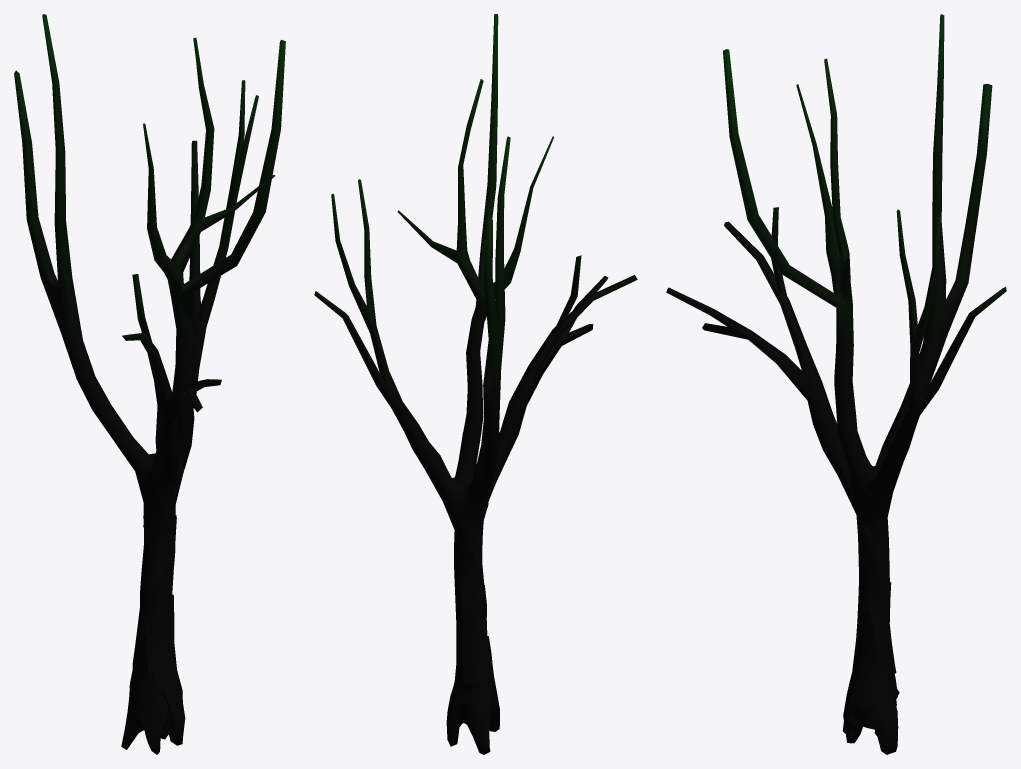
Rendered from TGV_Beech_Tree_Dry_02A.fbx.
The picture shows the model from 3 angles, left to right: view 1: azimuth 30°, elevation 25°; view 2: azimuth 150°, elevation 25°; view 3: azimuth 270°, elevation 25°; orthographic projection. The views are drawn at different scales.
Visible parts, largest first — view 1: TGV_Beech_Tree_Dry_02A_LOD0; view 2: TGV_Beech_Tree_Dry_02A_LOD0; view 3: TGV_Beech_Tree_Dry_02A_LOD0.
Part boxes in pixels (left/top/right/bottom): TGV_Beech_Tree_Dry_02A_LOD0: left=14, top=14, right=285, bottom=754; TGV_Beech_Tree_Dry_02A_LOD0: left=314, top=14, right=637, bottom=754; TGV_Beech_Tree_Dry_02A_LOD0: left=666, top=14, right=1006, bottom=754.
Size of the model in its own units: 336 by 1039 by 443.
